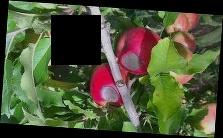rotten apple: (114, 27, 164, 77), (85, 63, 136, 105)
